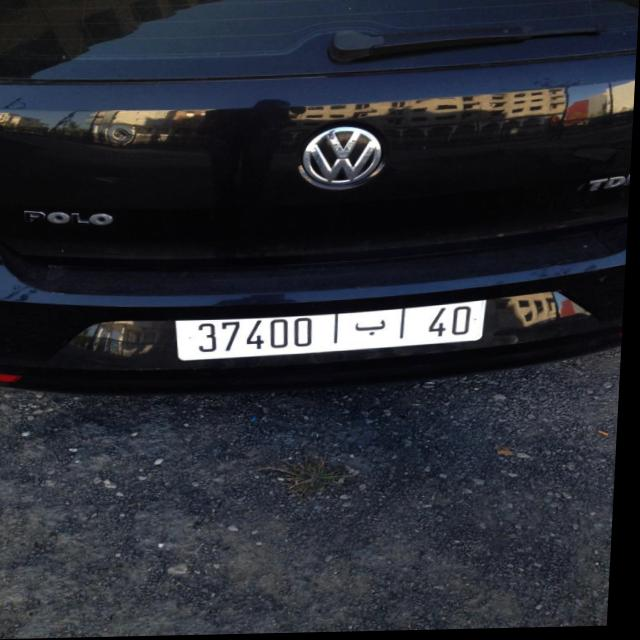License-Plate: (178, 303, 491, 361)
